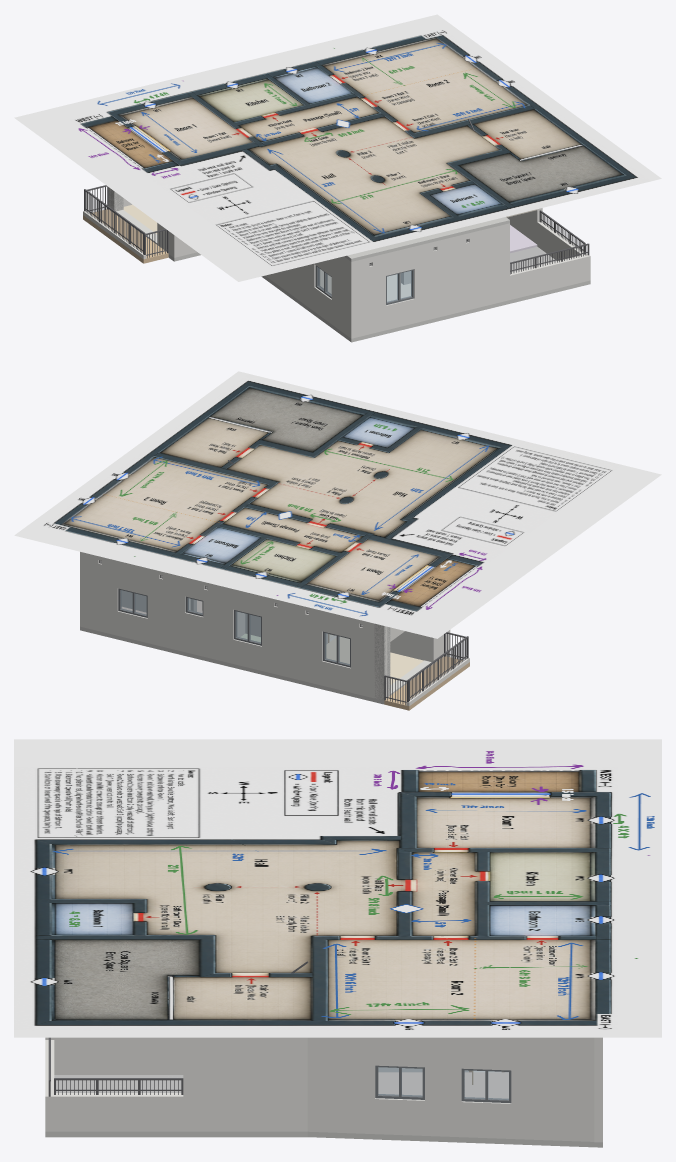
The model's file is MyFlat_V2_Architecture.glb.
3 views of the same model, one above another, from view 1: azimuth 30°, elevation 25°; view 2: azimuth 150°, elevation 25°; view 3: azimuth 270°, elevation 25° (orthographic). The views are drawn at different scales.
Visible parts, largest first — view 1: PLAN_REFERENCE_OVERLAY, WALL_EXT_S_HALL, WALL_EXT_W_HALL, PARAPET_OPENSQ_S, SLAB_FLOOR_STRUCTURAL, BALCONY_RAILING_W, BALCONY_FLOOR, SLAB_ROOF, PARAPET_OPENSQ_E, RAILING_OPENSQ_S, WALL_EXT_W_R1_BALCONY, WALL_EXT_E_STAIR (+4 smaller); view 2: PLAN_REFERENCE_OVERLAY, WALL_EXT_N_R1, WALL_EXT_N_R2, WALL_EXT_N_KIT, WALL_EXT_N_B2, BALCONY_RAILING_W, SLAB_FLOOR_STRUCTURAL, BALCONY_FLOOR, FLOOR_R1, PILLAR_R1_NW, WALL_EXT_W_R1_BALCONY, WALL_R1_S_RAISED (+2 smaller); view 3: PLAN_REFERENCE_OVERLAY, WALL_EXT_E_R2_TAPERED, WALL_EXT_E_STAIR, PARAPET_OPENSQ_E, WALL_INT_OPENSQ_W, SLAB_FLOOR_STRUCTURAL, FLOOR_R2, FLOOR_OPENSQ, WINDOW_W5_GLASS, WINDOW_W6_GLASS, RAILING_OPENSQ_E, WALL_EXT_N_R2 (+3 smaller).
Part boxes in pixels (x1,y1,x2,y2): PLAN_REFERENCE_OVERLAY: (14, 14, 661, 281); WALL_EXT_S_HALL: (348, 223, 509, 338); WALL_EXT_W_HALL: (265, 256, 356, 338); PARAPET_OPENSQ_S: (510, 254, 590, 299); SLAB_FLOOR_STRUCTURAL: (168, 252, 590, 342); BALCONY_RAILING_W: (84, 189, 145, 254); BALCONY_FLOOR: (83, 209, 168, 263); SLAB_ROOF: (344, 217, 509, 261); PARAPET_OPENSQ_E: (537, 221, 587, 260); RAILING_OPENSQ_S: (510, 243, 589, 274); WALL_EXT_W_R1_BALCONY: (109, 189, 182, 257); WALL_EXT_E_STAIR: (507, 208, 542, 244); PLAN_REFERENCE_OVERLAY: (14, 371, 661, 638); WALL_EXT_N_R1: (283, 601, 387, 700); WALL_EXT_N_R2: (80, 553, 176, 649); WALL_EXT_N_KIT: (211, 584, 283, 676); WALL_EXT_N_B2: (177, 575, 211, 658); BALCONY_RAILING_W: (407, 636, 468, 701); SLAB_FLOOR_STRUCTURAL: (80, 626, 449, 704); BALCONY_FLOOR: (384, 656, 469, 710); FLOOR_R1: (326, 636, 423, 684); PILLAR_R1_NW: (374, 623, 390, 700); WALL_EXT_W_R1_BALCONY: (375, 624, 449, 698); WALL_R1_S_RAISED: (390, 631, 424, 660); PLAN_REFERENCE_OVERLAY: (14, 739, 661, 1037); WALL_EXT_E_R2_TAPERED: (307, 1037, 594, 1141); WALL_EXT_E_STAIR: (183, 1037, 307, 1131); PARAPET_OPENSQ_E: (54, 1093, 183, 1131); WALL_INT_OPENSQ_W: (54, 1037, 183, 1074); SLAB_FLOOR_STRUCTURAL: (45, 1083, 602, 1147); FLOOR_R2: (378, 1072, 508, 1098); FLOOR_OPENSQ: (54, 1075, 183, 1092); WINDOW_W5_GLASS: (464, 1070, 508, 1099); WINDOW_W6_GLASS: (378, 1067, 422, 1096); RAILING_OPENSQ_E: (54, 1078, 183, 1094); WALL_EXT_N_R2: (594, 1037, 602, 1142).
Size of what is drawn, in the model's own units: 18.03 by 4.33 by 16.55.
22 materials, 1 textured.
